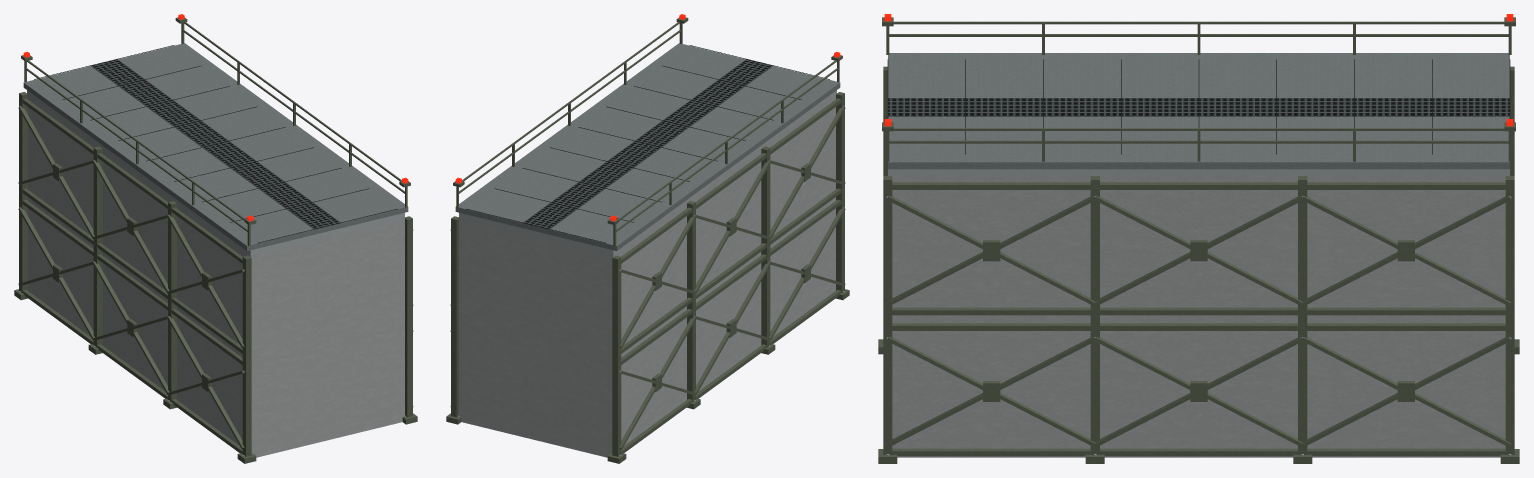
The model's file is straight.glb.
3 views of the same model, side by side, from view 1: azimuth 30°, elevation 25°; view 2: azimuth 150°, elevation 25°; view 3: azimuth 270°, elevation 25° (orthographic). The views are drawn at different scales.
Visible parts, largest first — view 1: straight-lod0-roof0, straight-lod0-floor0, straight-lod0-base0; view 2: straight-lod0-roof0, straight-lod0-floor0, straight-lod0-base0; view 3: straight-lod0-floor0, straight-lod0-base0, straight-lod0-roof0.
Boxes of the visible parts, x1,y1,x2,y2 form: straight-lod0-roof0: (21, 14, 410, 256); straight-lod0-floor0: (18, 92, 413, 360); straight-lod0-base0: (14, 195, 417, 463); straight-lod0-roof0: (453, 14, 842, 256); straight-lod0-floor0: (450, 92, 845, 360); straight-lod0-base0: (446, 195, 849, 463); straight-lod0-floor0: (883, 66, 1514, 320); straight-lod0-base0: (878, 316, 1519, 463); straight-lod0-roof0: (882, 14, 1515, 175).
Size of what is drawn, in the model's own units: 32.2 by 43.07 by 74.2.
8 materials, 8 textured.
